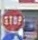stop: (1, 8, 25, 31)
